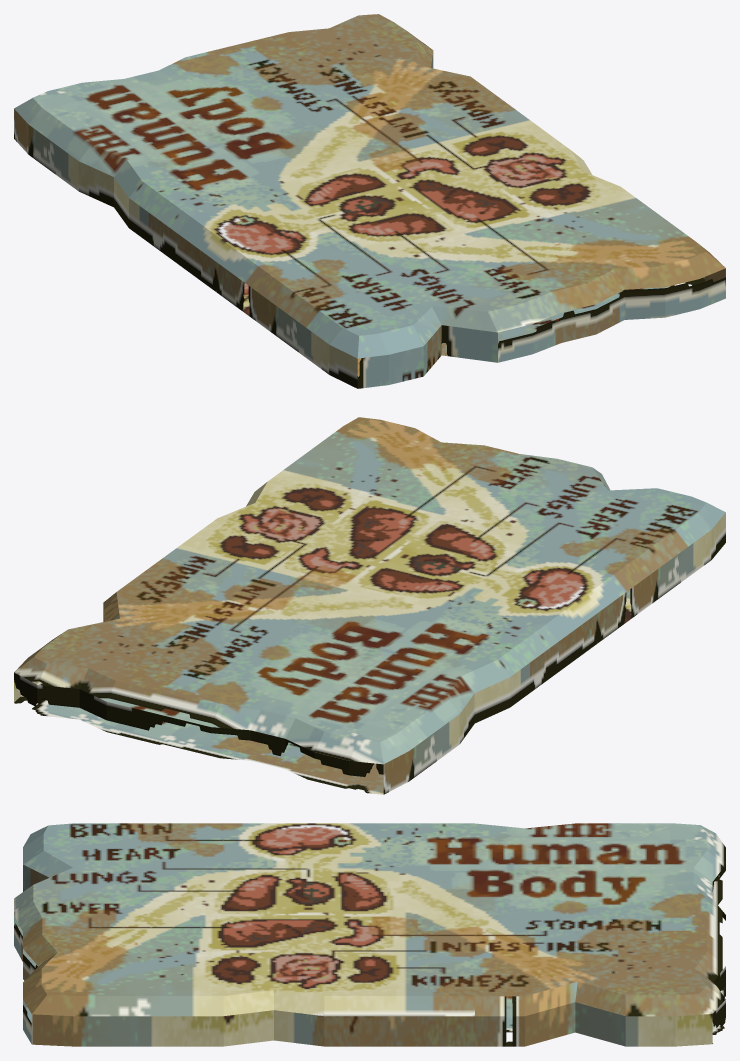
File: placemat.fbx
3 renders of one model, top to bottom at view 1: azimuth 30°, elevation 25°; view 2: azimuth 150°, elevation 25°; view 3: azimuth 270°, elevation 25°, orthographic.
Visible parts, largest first — view 1: Cube; view 2: Cube; view 3: Cube.
Boxes of the visible parts, left/top/right/bottom form: Cube: left=14, top=14, right=725, bottom=388; Cube: left=14, top=417, right=725, bottom=794; Cube: left=14, top=823, right=725, bottom=1046.
Size of the model in its own units: 155 by 17.15 by 251.
Materials: 1 (1 with a texture image).
